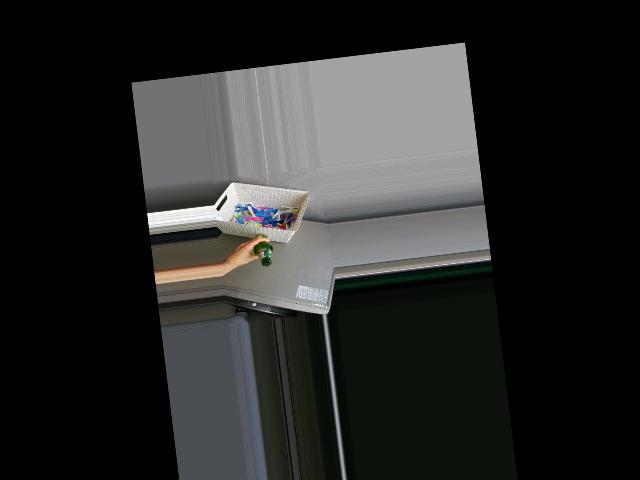beer: (251, 233, 275, 267)
